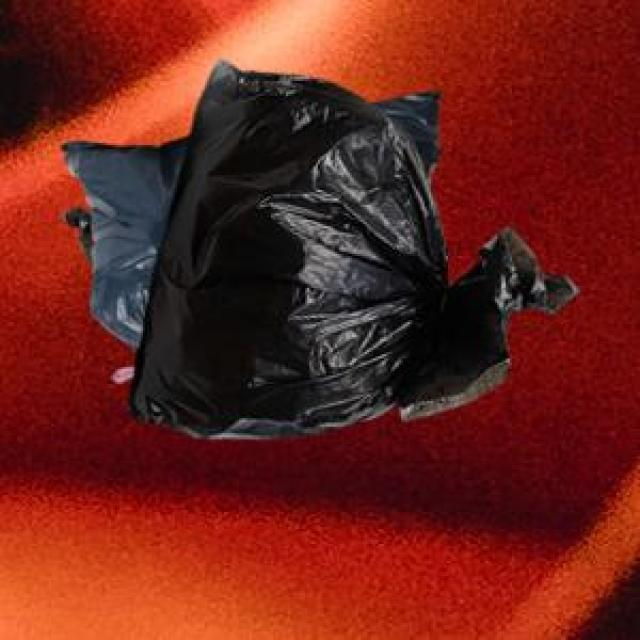Vinyl: (64, 62, 579, 437)
